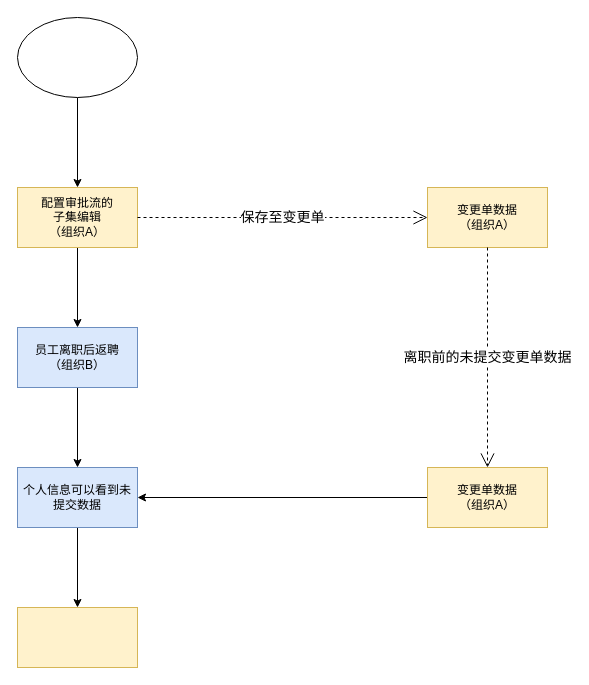
This 589x685 diagram has some shape labels left out. Here are the shapes that lost their labels. From the top down, the box of each, then its label:
(16, 16, 138, 98): 个人信息
(16, 606, 138, 668): 提交 走组织A审批流
